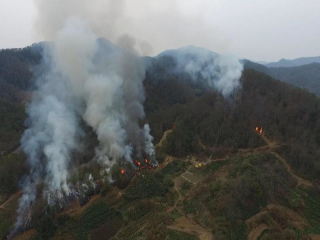smoke: (14, 3, 161, 213), (178, 39, 246, 101)
